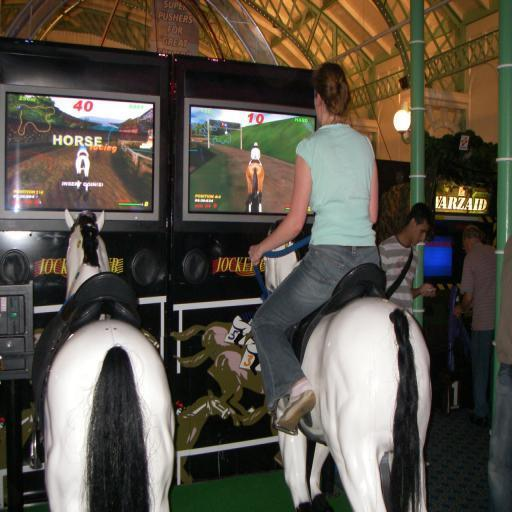horse: (260, 220, 432, 512), (45, 208, 177, 512), (175, 386, 244, 482), (172, 346, 265, 416), (175, 386, 230, 482), (168, 318, 256, 362), (246, 162, 266, 213), (74, 156, 90, 200)
